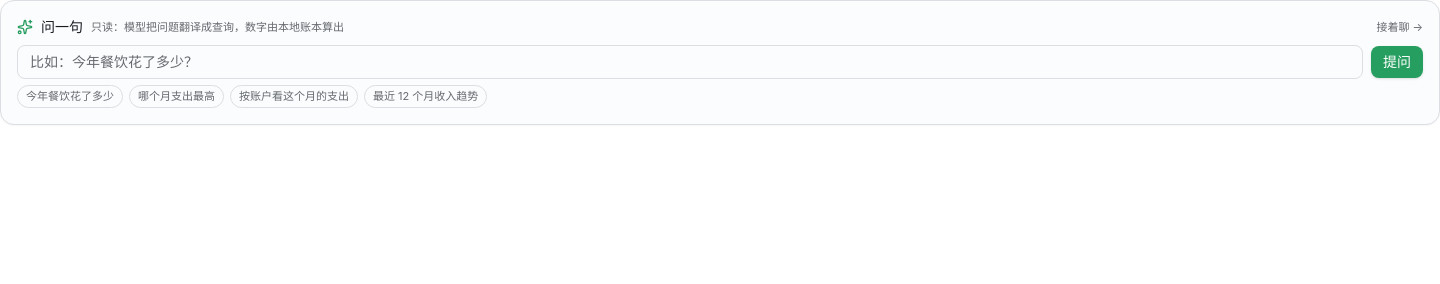
Test case: AskCard › asks the question and shows the computed facts
Type "今年餐饮花了多少" into the field named "问题".
click(690, 62); type("今年餐饮花了多少")  # box [17,45,1363,79]
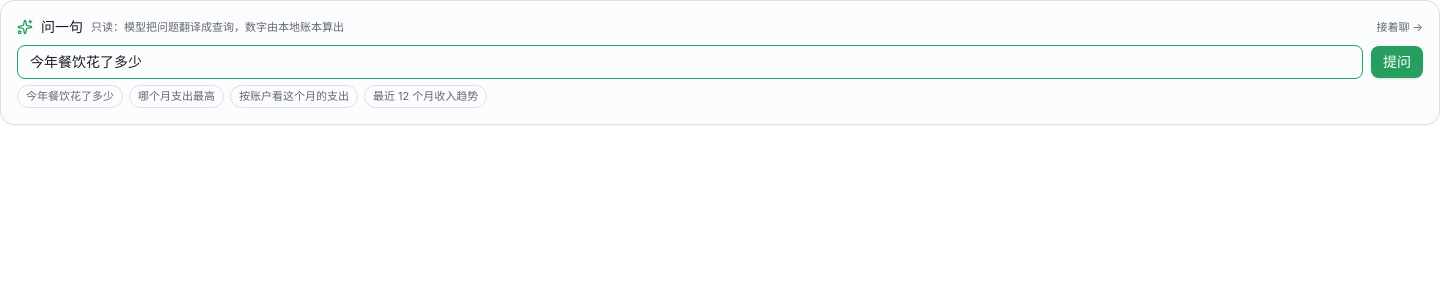
Click the button "提问".
click(1397, 62)  # box [1371,46,1423,78]
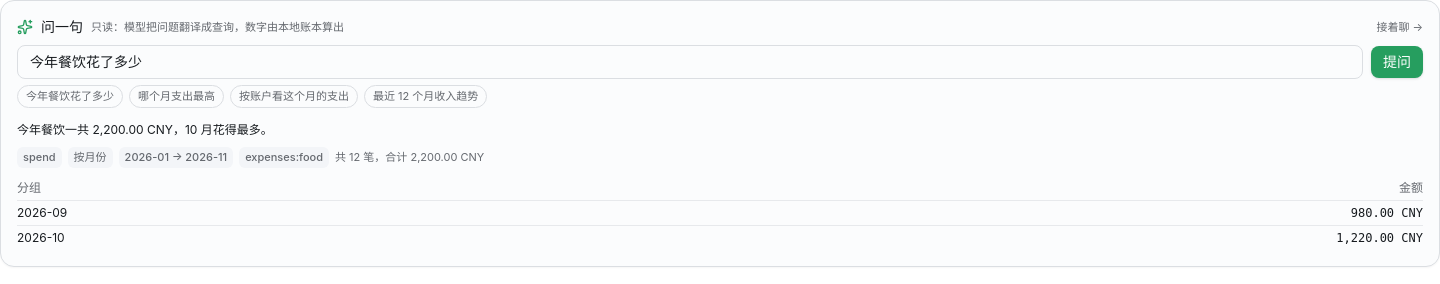
Result: the text "今年餐饮一共 2,200.00 CNY，10 月花得最多。" is shown at [17,122,273,136]
Result: the text "2026-10" is shown at [17,225,532,250]
Result: the text "1,220.00 CNY" is shown at [532,225,1423,250]
